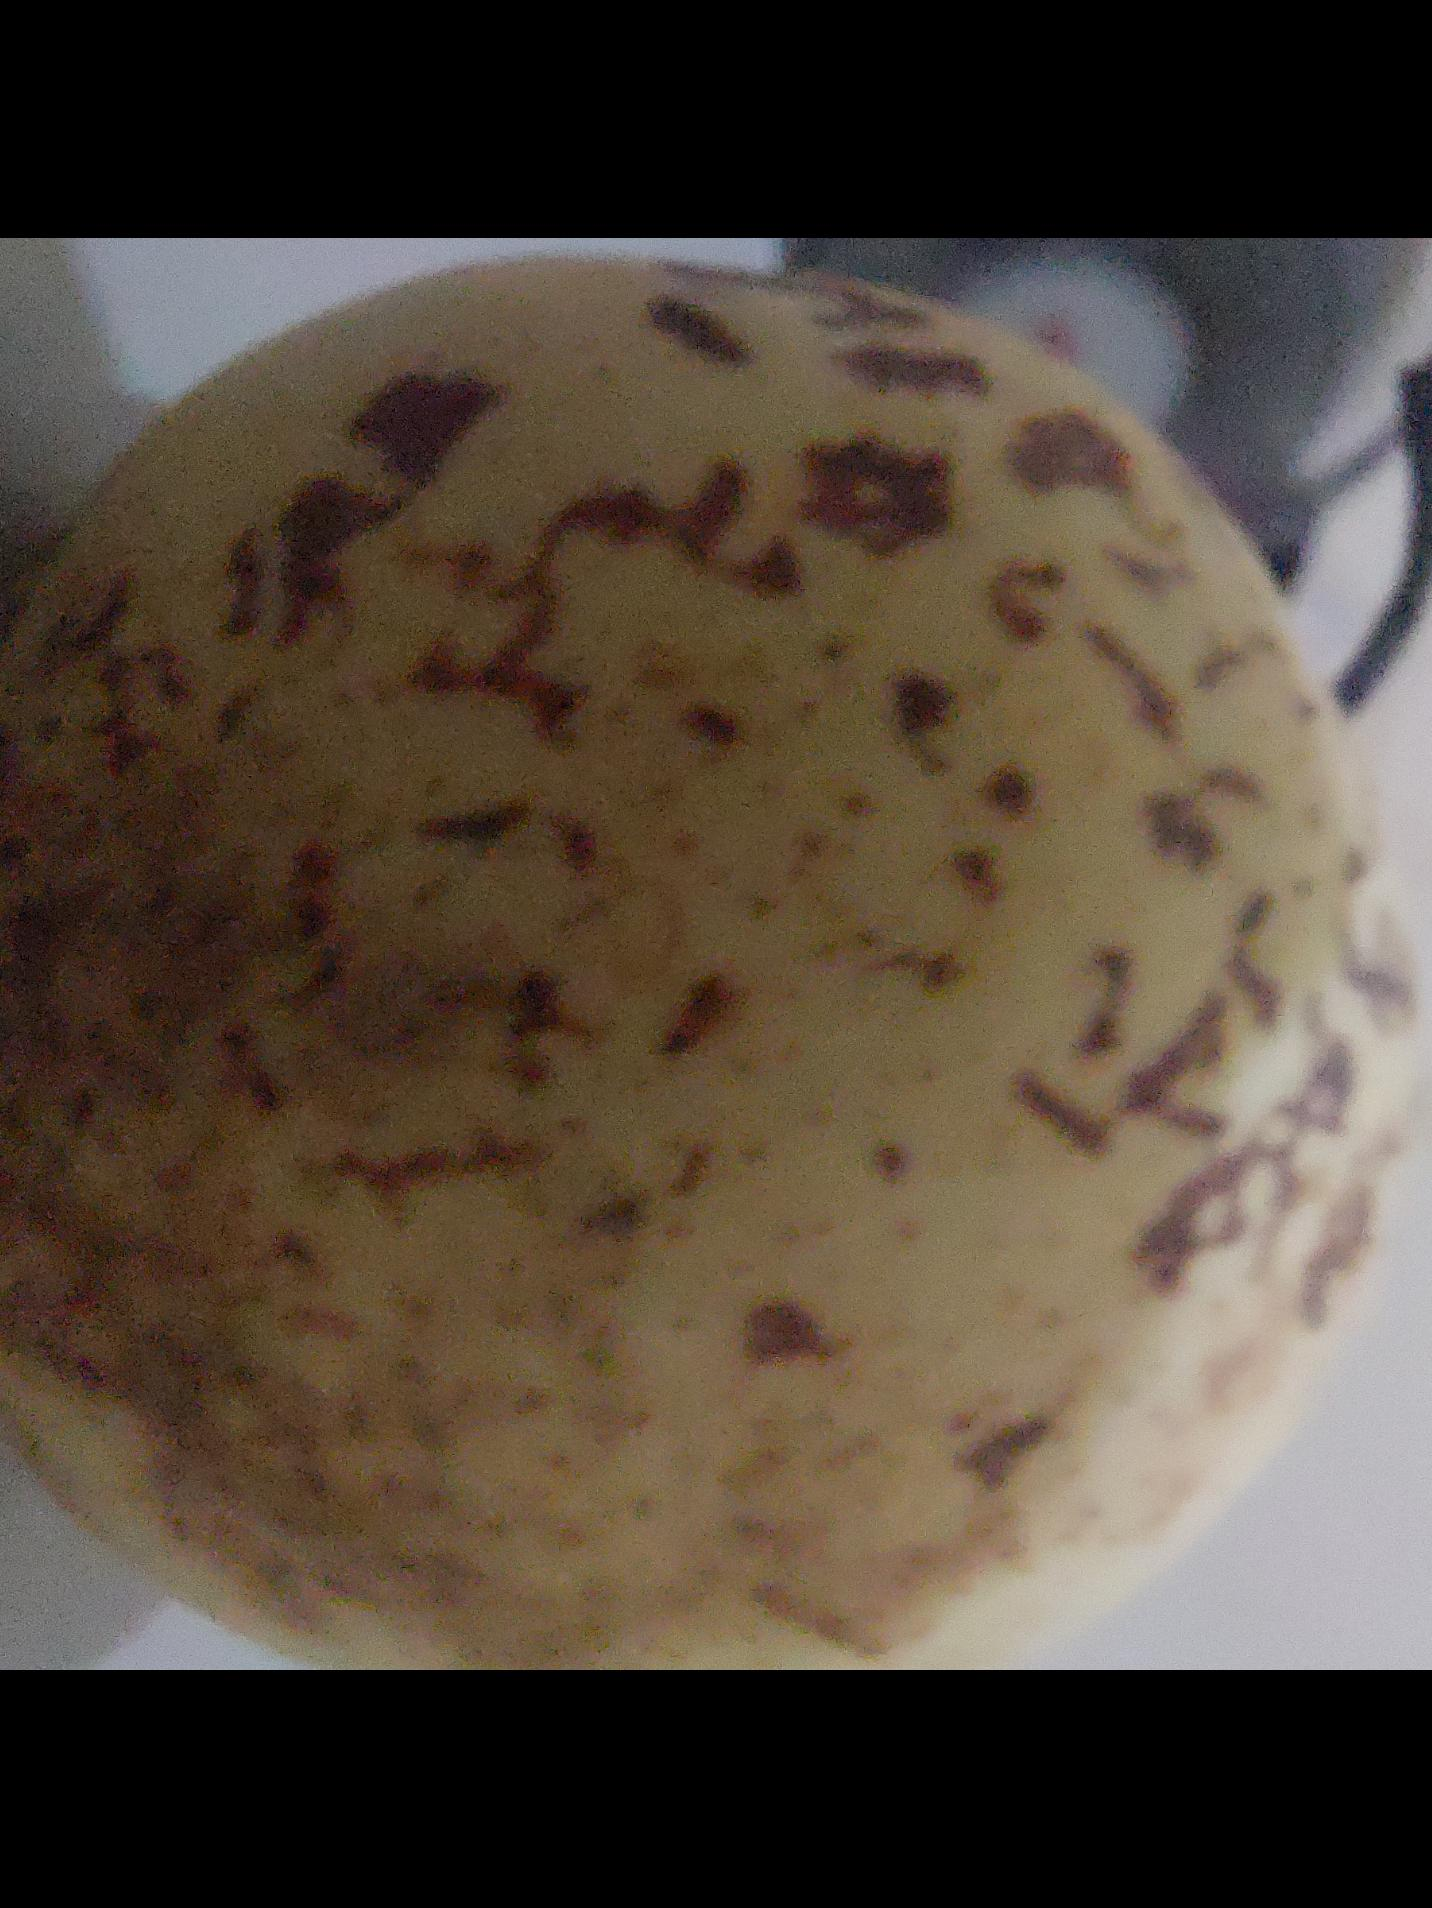Bad Pear: (0, 239, 1432, 1670)
